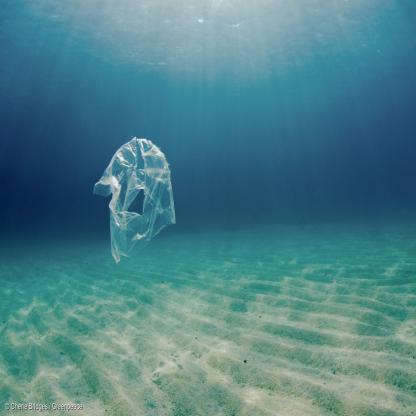Rác: (89, 130, 192, 276)
